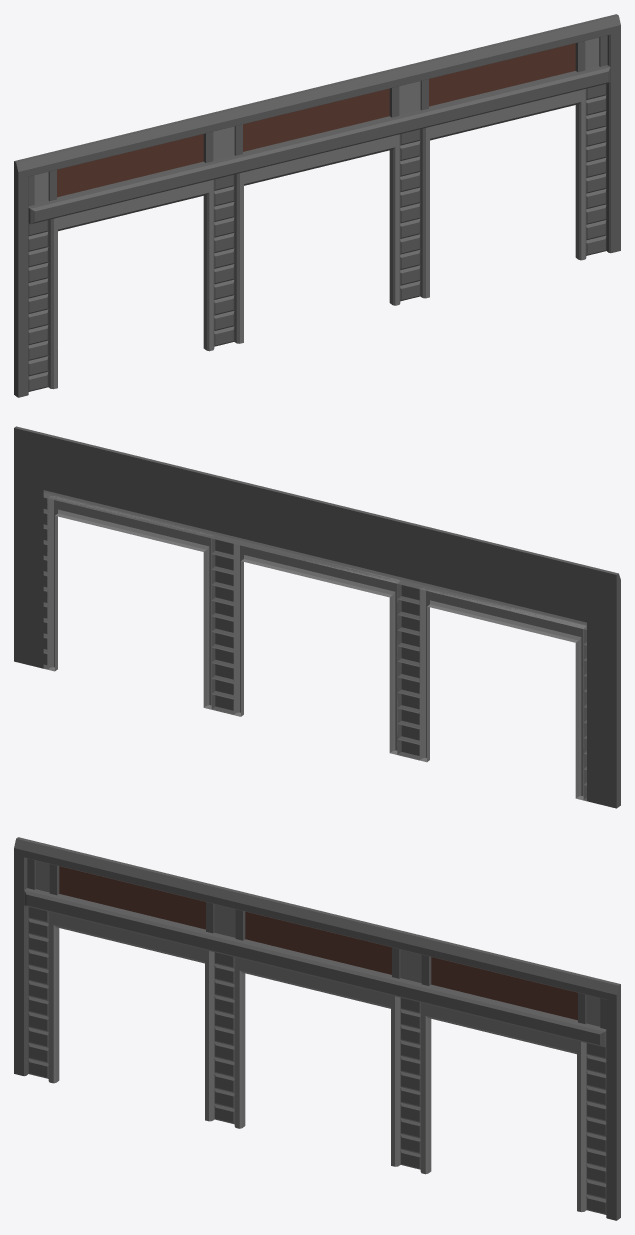
The model's file is Building5_BottomFront1.fbx.
3 views of the same model, one above another, from view 1: azimuth 30°, elevation 25°; view 2: azimuth 150°, elevation 25°; view 3: azimuth 330°, elevation 25° (orthographic).
Parts seen in each view (by area): view 1: Cube.018; view 2: Cube.018; view 3: Cube.018.
Part boxes in pixels (x1,y1,x2,y2): Cube.018: (14, 14, 620, 397); Cube.018: (14, 426, 620, 808); Cube.018: (14, 837, 620, 1220).
Bounding box in the file's own units: 1620 × 600 × 30.
